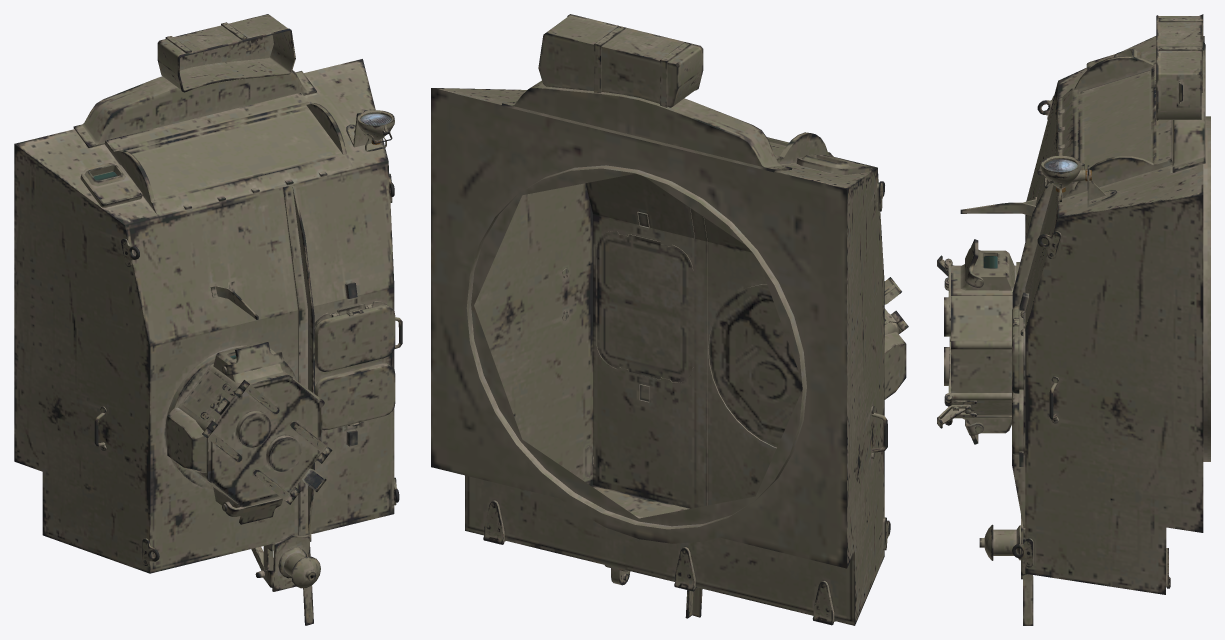
File: Turret_01.glb
3 renders of one model, left to right at view 1: azimuth 30°, elevation 25°; view 2: azimuth 150°, elevation 25°; view 3: azimuth 270°, elevation 25°, orthographic. The views are drawn at different scales.
Visible parts, largest first — view 1: set_0_group_0; view 2: set_0_group_0; view 3: set_0_group_0.
Boxes of the visible parts, <box> form: set_0_group_0: <box>14,14,402,625</box>; set_0_group_0: <box>431,14,908,625</box>; set_0_group_0: <box>937,14,1210,625</box>.
Bounding box in the file's own units: 1.72 × 2.55 × 1.1.
1 material, 1 textured.
